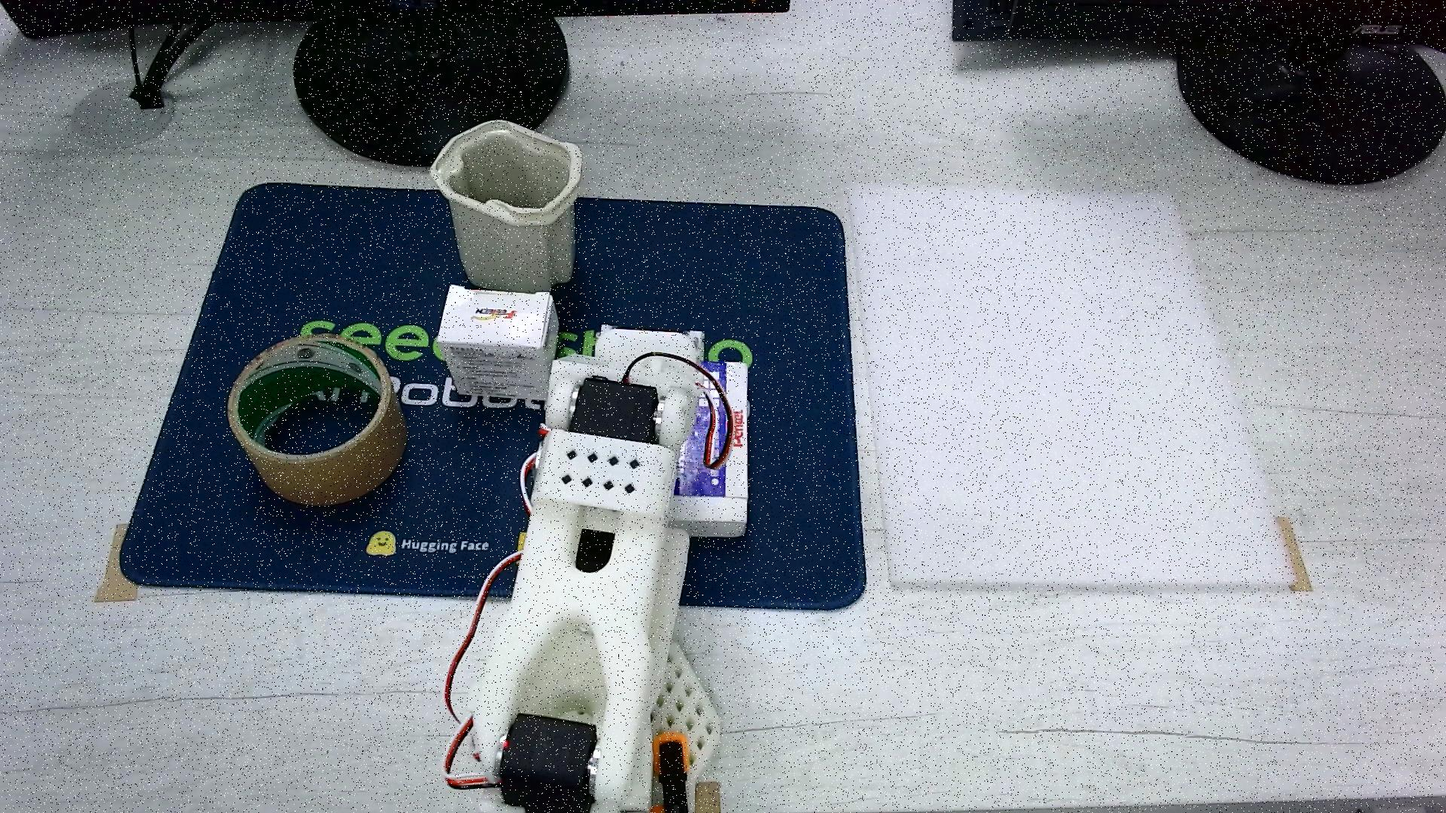eraser: (437, 285, 557, 400)
